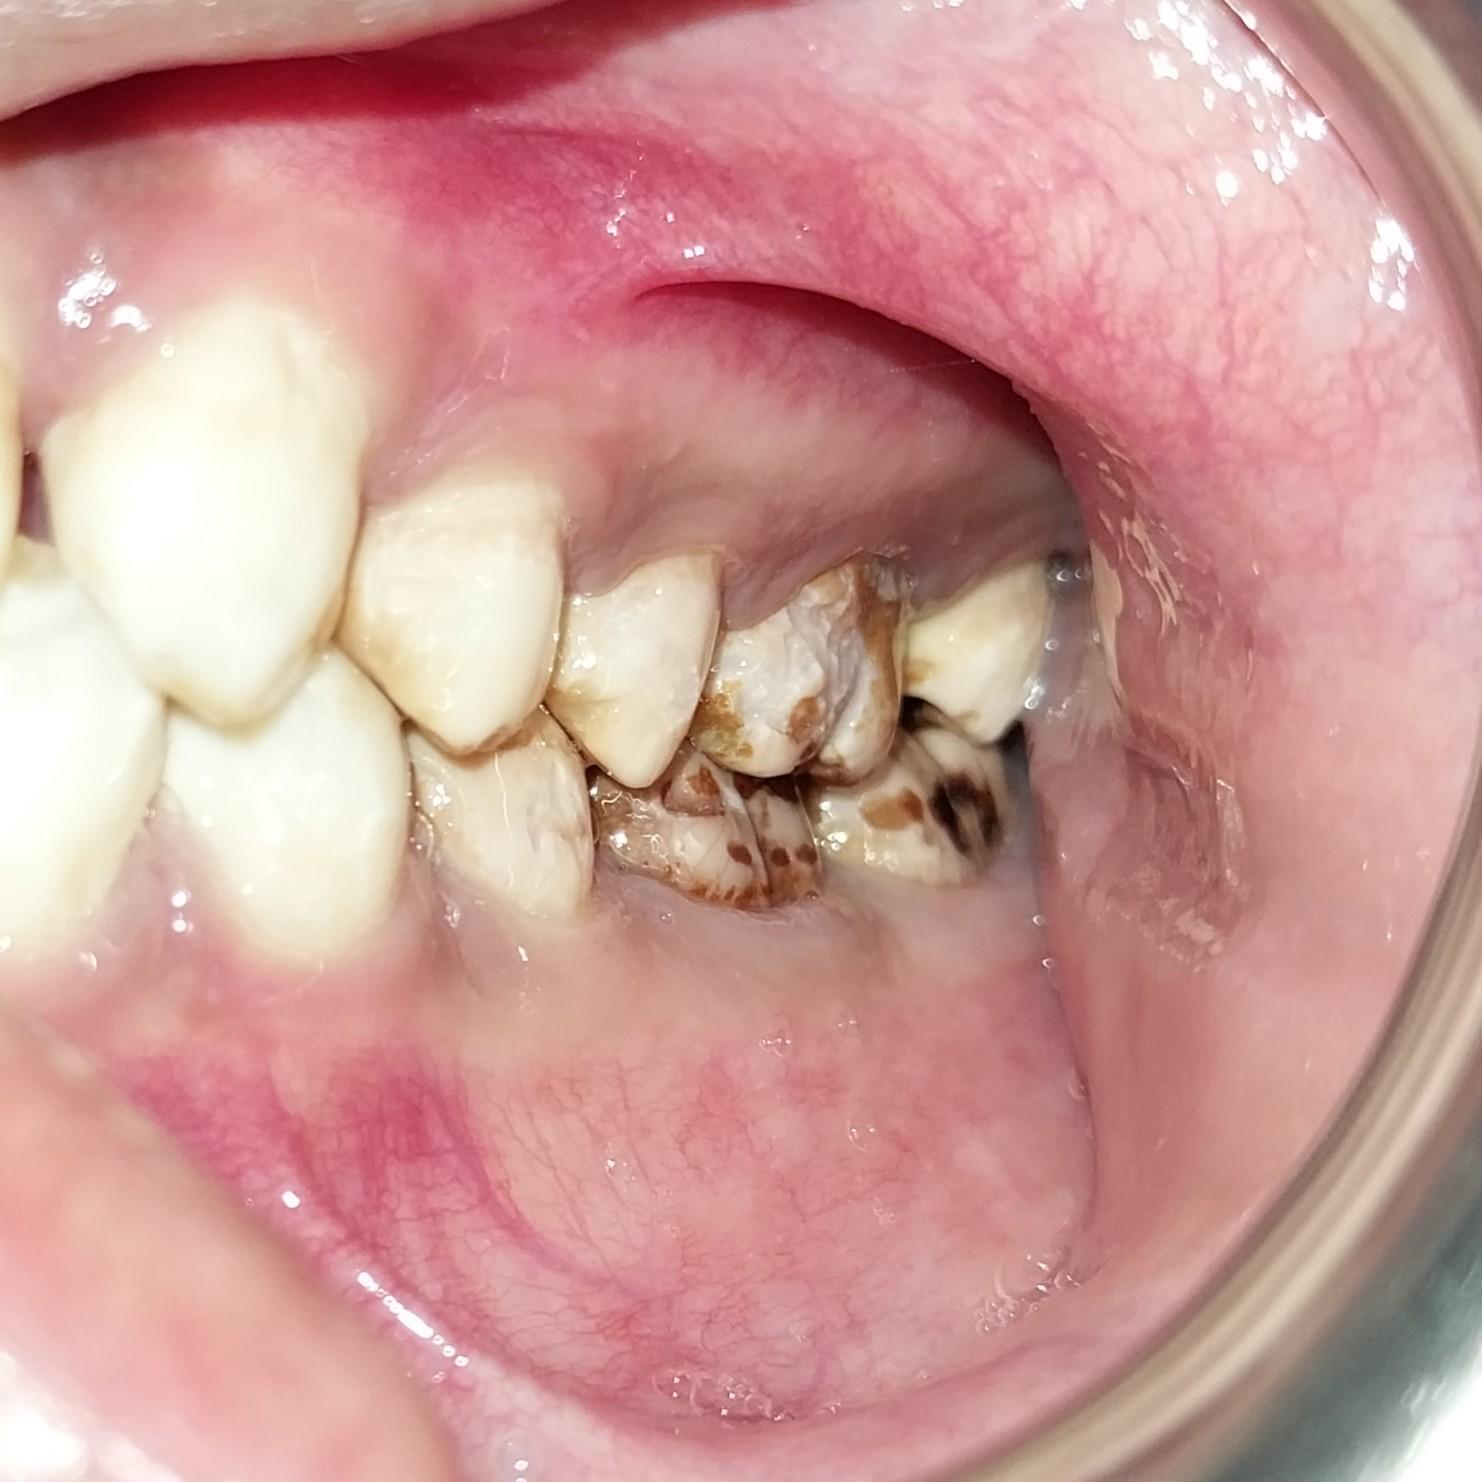D: (578, 756, 828, 913), (818, 726, 1031, 888)
